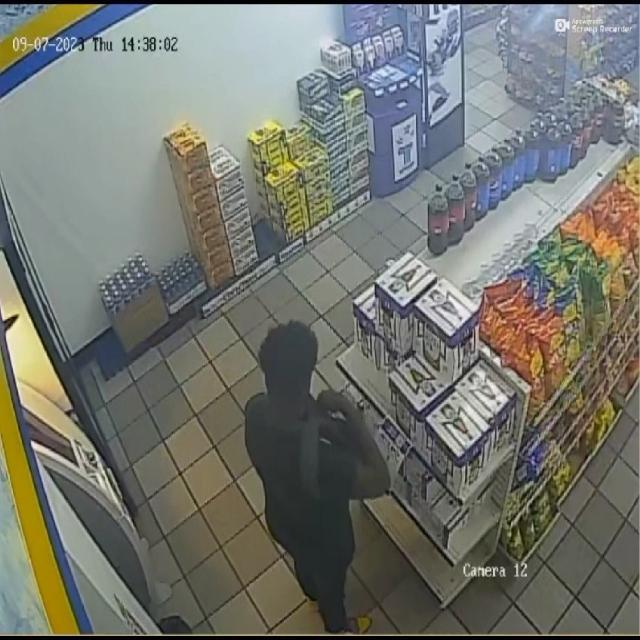Normal: (232, 318, 410, 640)
